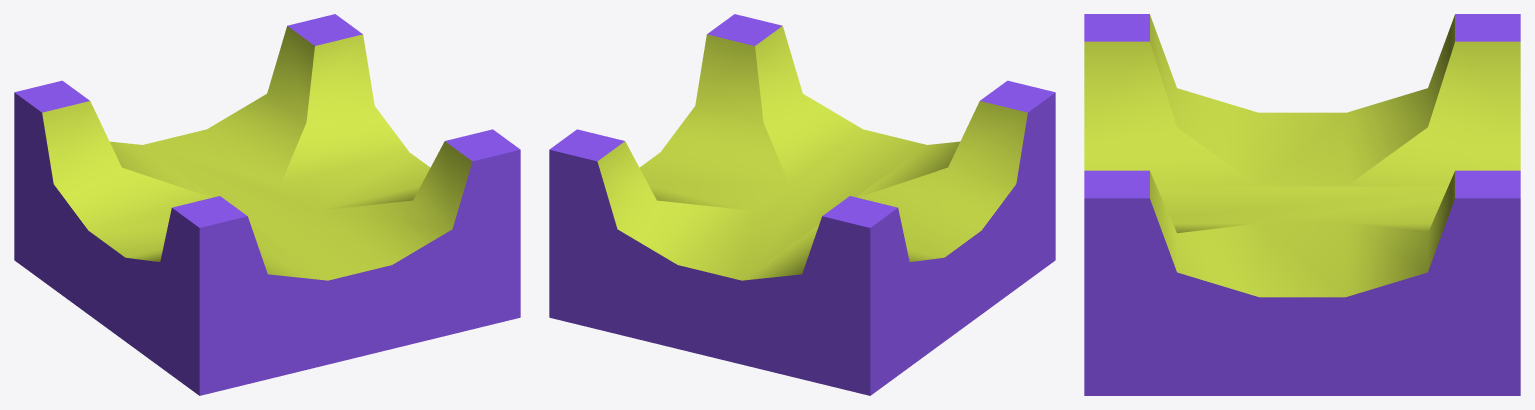
File: cross.fbx
3 renders of one model, left to right at view 1: azimuth 30°, elevation 25°; view 2: azimuth 150°, elevation 25°; view 3: azimuth 270°, elevation 25°, orthographic. The views are drawn at different scales.
Visible parts, largest first — view 1: cross; view 2: cross; view 3: cross.
Part boxes in pixels (left/top/right/bottom): cross: left=14, top=14, right=520, bottom=395; cross: left=549, top=14, right=1055, bottom=395; cross: left=1084, top=14, right=1520, bottom=395.
Bounding box in the file's own units: 10 × 5 × 10.
